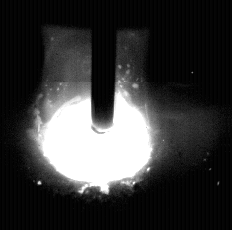arame: (92, 0, 115, 134)
poca: (38, 0, 152, 230)
